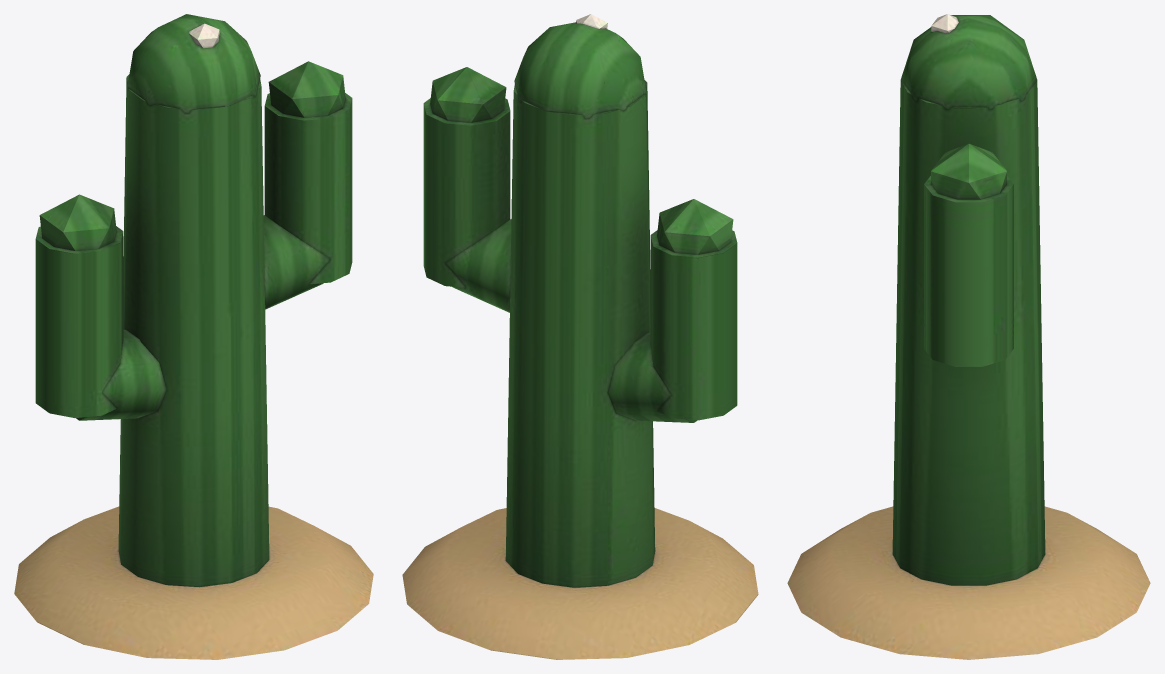
The model's file is saguaro.glb.
3 renders of one model, left to right at view 1: azimuth 30°, elevation 25°; view 2: azimuth 150°, elevation 25°; view 3: azimuth 270°, elevation 25°, orthographic.
Visible parts, largest first — view 1: saguaro; view 2: saguaro; view 3: saguaro.
Boxes of the visible parts, x1,y1,x2,y2 form: saguaro: (14,14,373,659); saguaro: (402,14,758,659); saguaro: (787,14,1150,659).
Bounding box in the file's own units: 1.7 × 2.94 × 1.7.
1 material, 1 textured.
